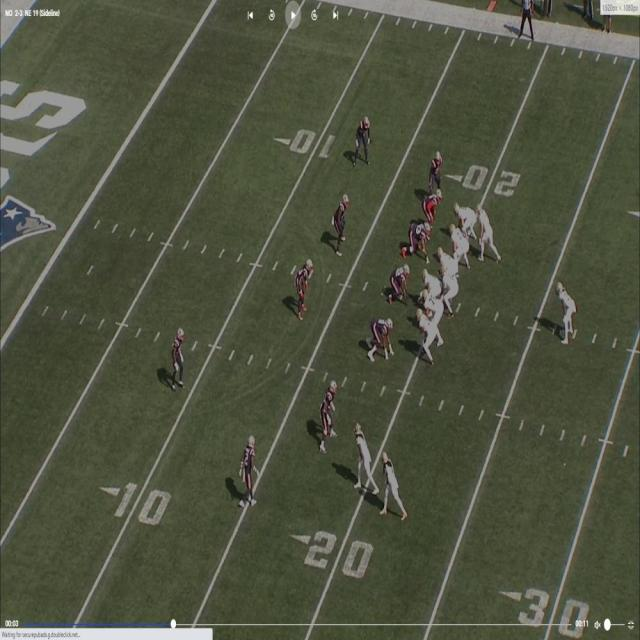center: (421, 268, 441, 300)
db: (353, 113, 371, 160), (245, 438, 257, 508), (175, 329, 188, 392), (429, 152, 443, 190)
lb: (323, 377, 339, 445), (297, 262, 314, 318), (332, 196, 349, 250), (424, 192, 444, 220)
qb: (439, 260, 454, 315)
skill: (382, 452, 404, 516), (476, 208, 497, 268), (354, 426, 372, 492), (557, 279, 574, 342), (456, 200, 476, 235)
